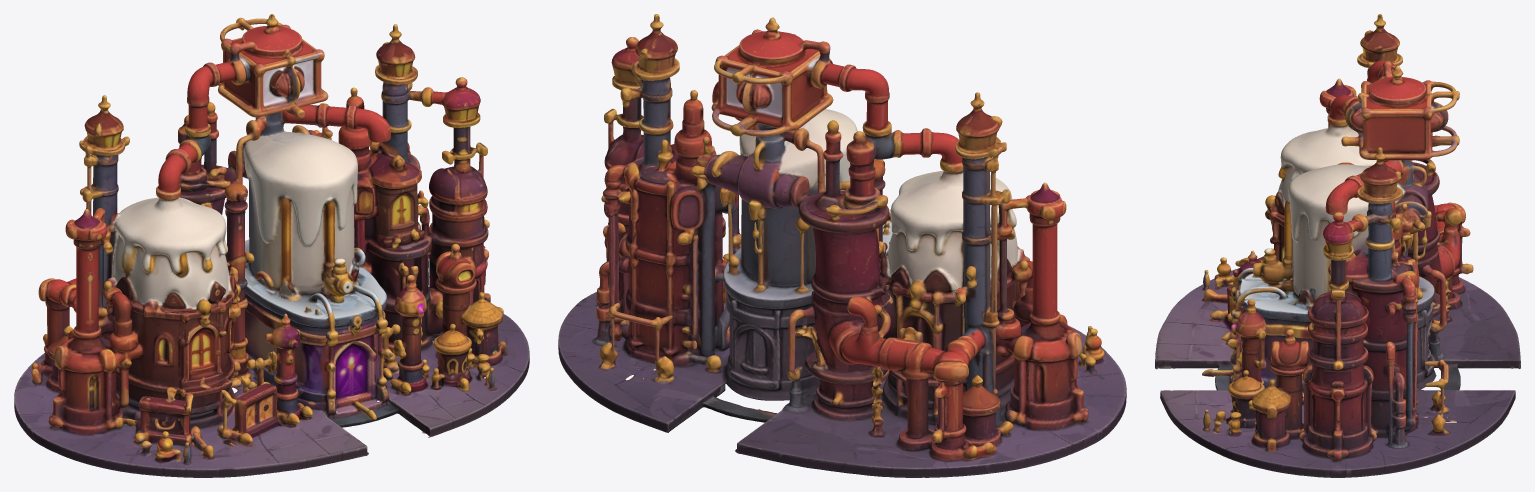
File: Meshy_AI_Clockwork_Creamery_1024091535_texture.fbx
The picture shows the model from 3 angles, left to right: view 1: azimuth 30°, elevation 25°; view 2: azimuth 150°, elevation 25°; view 3: azimuth 270°, elevation 25°; orthographic projection. The views are drawn at different scales.
Parts seen in each view (by area): view 1: Mesh_0; view 2: Mesh_0; view 3: Mesh_0.
Part boxes in pixels (x1,y1,x2,y2): Mesh_0: (14,14,529,477); Mesh_0: (558,14,1126,477); Mesh_0: (1155,14,1520,477).
Size of the model in its own units: 190 by 130 by 135.
Materials: 1 (1 with a texture image).
